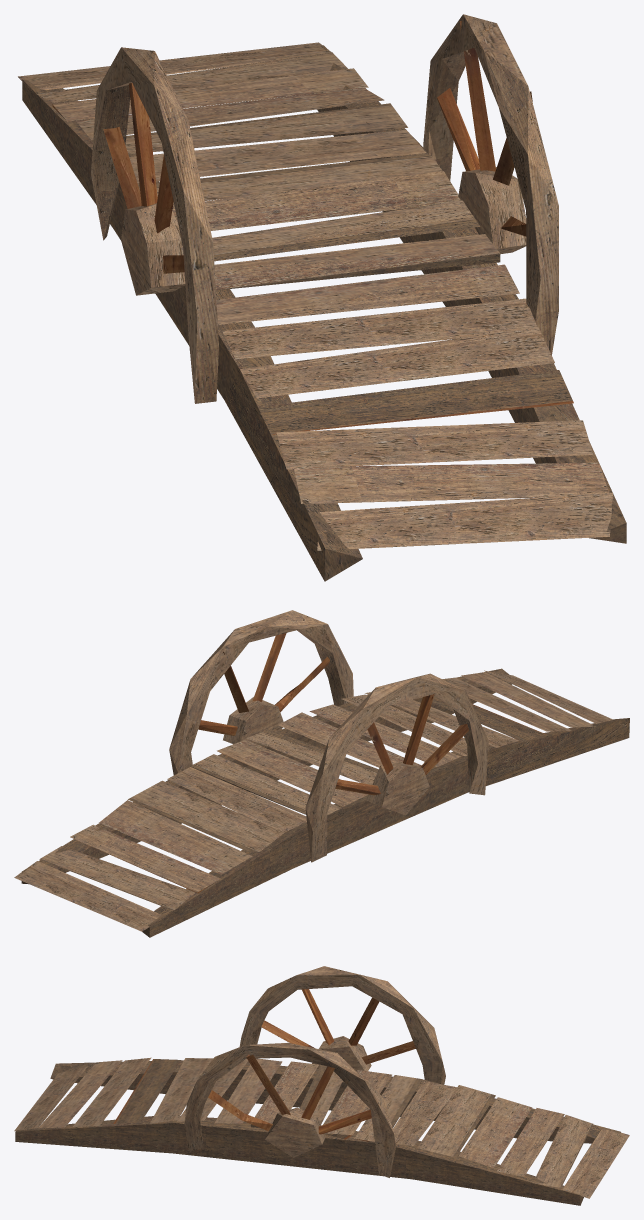
File: bridge.fbx
3 renders of one model, top to bottom at view 1: azimuth 30°, elevation 25°; view 2: azimuth 150°, elevation 25°; view 3: azimuth 270°, elevation 25°, orthographic. The views are drawn at different scales.
Visible parts, largest first — view 1: bridge1_T_bridge1_0; view 2: bridge1_T_bridge1_0; view 3: bridge1_T_bridge1_0.
Part boxes in pixels (<box>): bridge1_T_bridge1_0: <box>18,14,626,581</box>; bridge1_T_bridge1_0: <box>14,610,629,937</box>; bridge1_T_bridge1_0: <box>14,966,629,1205</box>.
Size of the model in its own units: 313 by 156 by 632.
